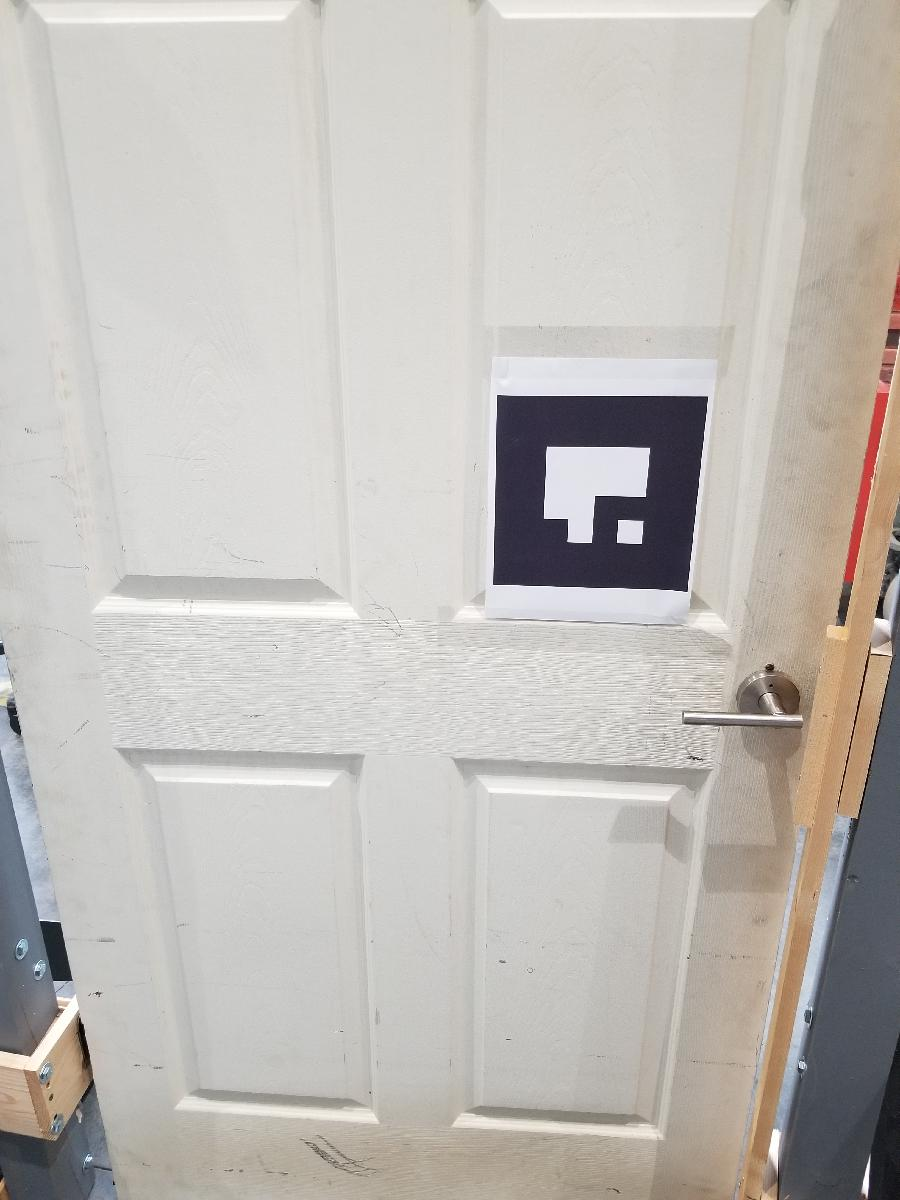doorHandle: (669, 664, 815, 741)
